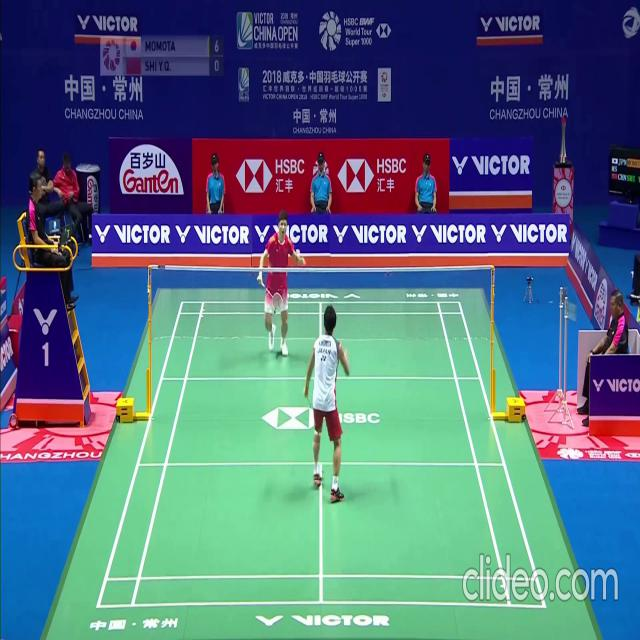Shuttlecock: (295, 248, 300, 256)
